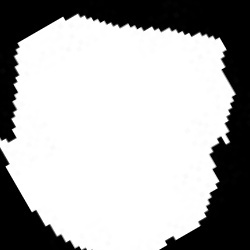spot: (1, 12, 235, 248)
